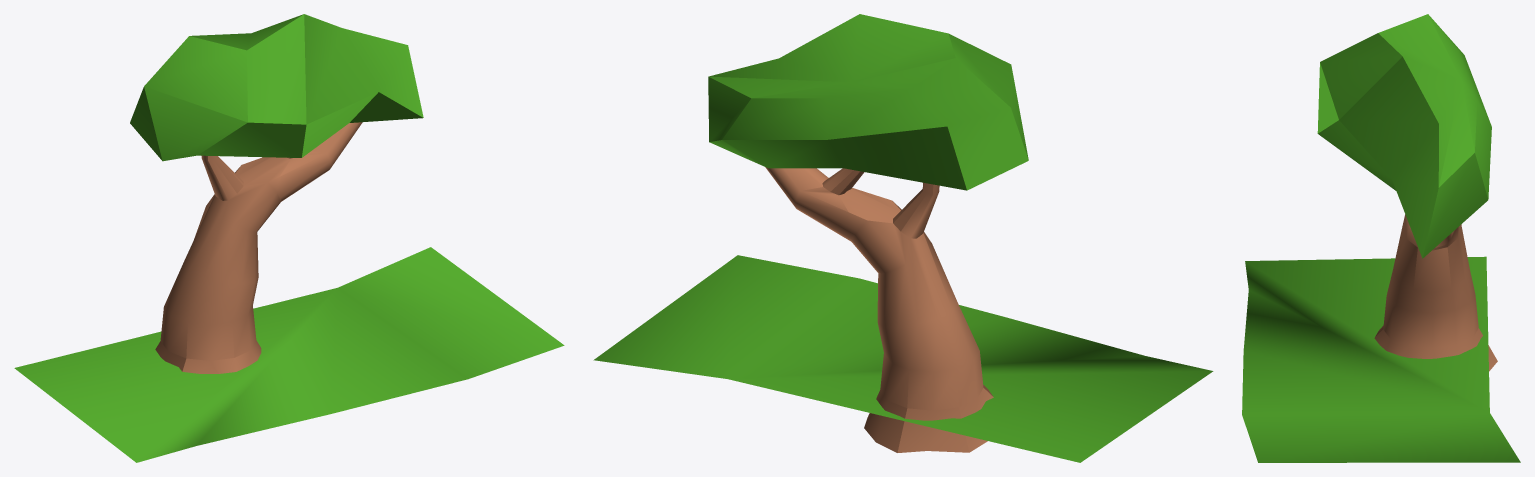
The model's file is scene_test_error.fbx.
3 renders of one model, left to right at view 1: azimuth 30°, elevation 25°; view 2: azimuth 150°, elevation 25°; view 3: azimuth 270°, elevation 25°, orthographic. The views are drawn at different scales.
Parts seen in each view (by area): view 1: Mesh (3), Mesh (2) (2), Mesh (4); view 2: Mesh (3), Mesh (2) (2), Mesh (4); view 3: Mesh (3), Mesh (2) (2), Mesh (4).
Boxes of the visible parts, x1,y1,x2,y2 form: Mesh (3): (14,247,564,462); Mesh (2) (2): (130,14,423,161); Mesh (4): (155,122,362,373); Mesh (3): (593,255,1213,462); Mesh (2) (2): (708,14,1028,190); Mesh (4): (765,167,993,452); Mesh (3): (1242,256,1520,462); Mesh (2) (2): (1317,14,1491,258); Mesh (4): (1374,214,1497,371).
Bounding box in the file's own units: 1248 × 976 × 706.
3 materials, 3 textured.
